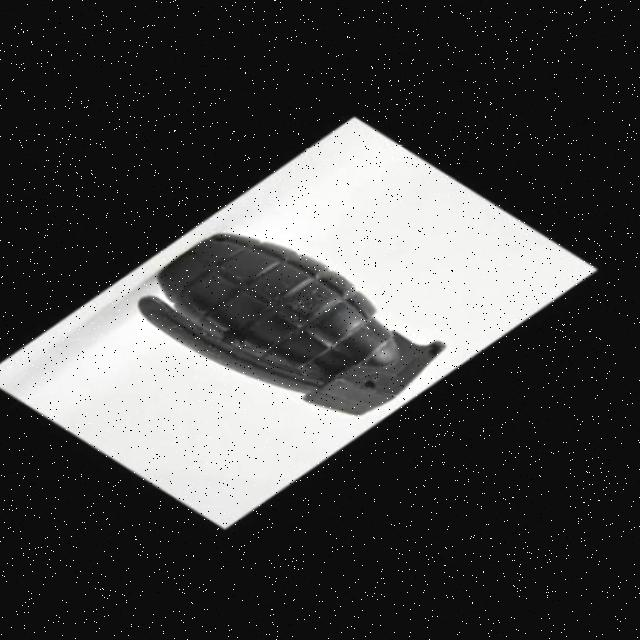grenade: (139, 208, 457, 431)
